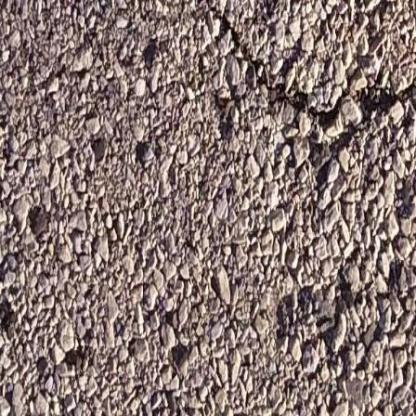Cracks: (178, 0, 416, 160)
